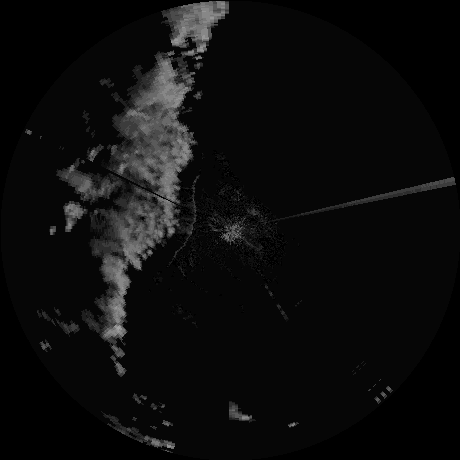frontgust: (178, 173, 201, 256)
